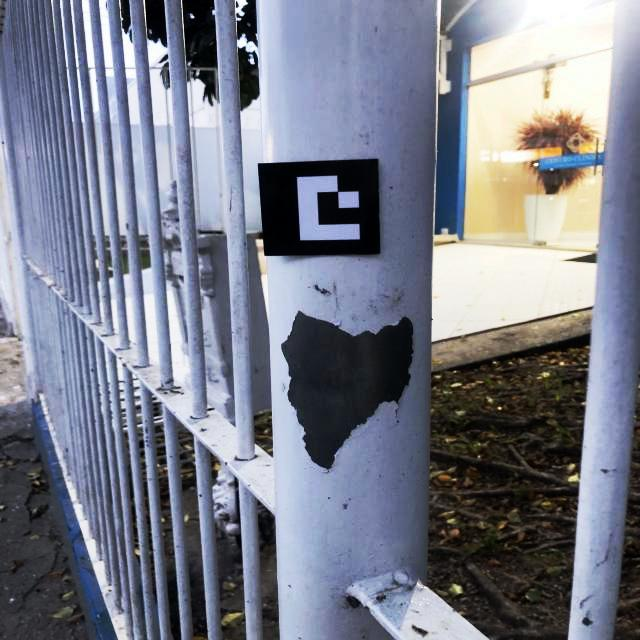Corrosion: (347, 596, 361, 608), (376, 595, 387, 602), (392, 581, 399, 585)
